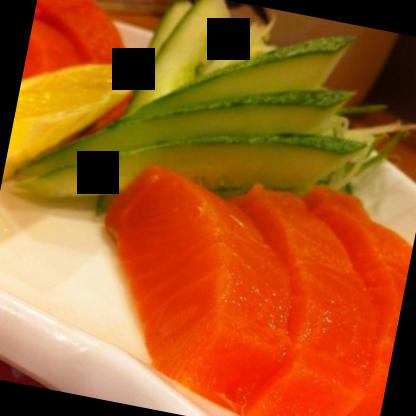salmon: (80, 154, 310, 414), (190, 189, 395, 415), (248, 180, 415, 415)
